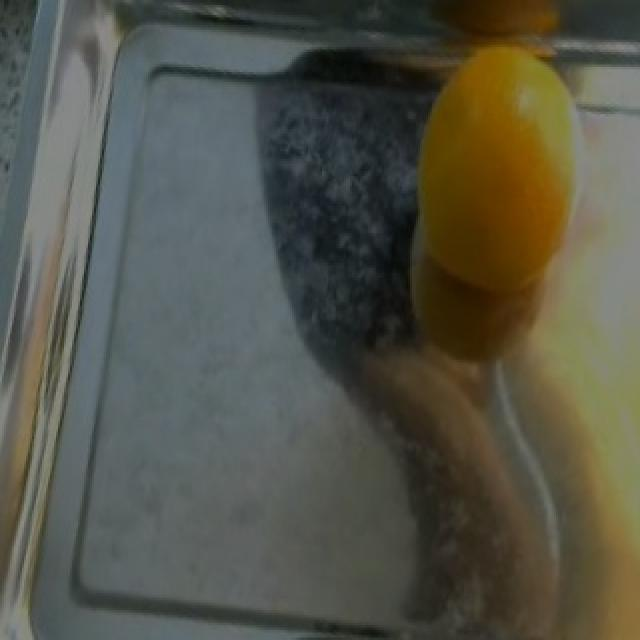Fruit: (394, 10, 604, 322)
